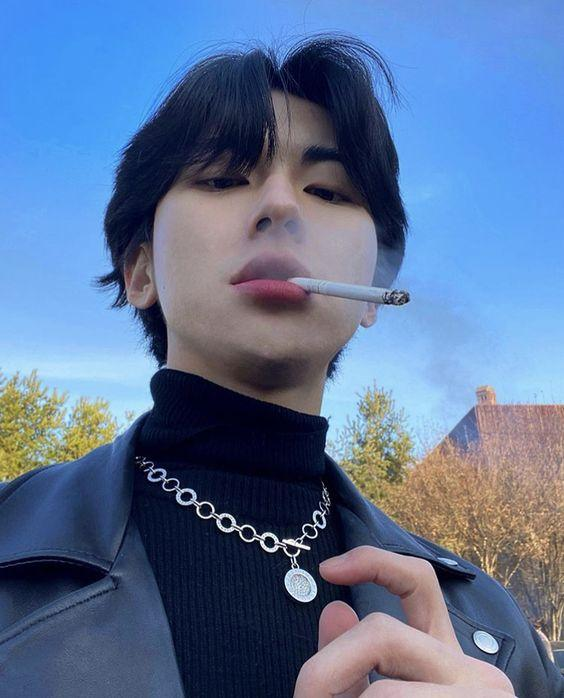cigarette: (289, 277, 410, 305)
